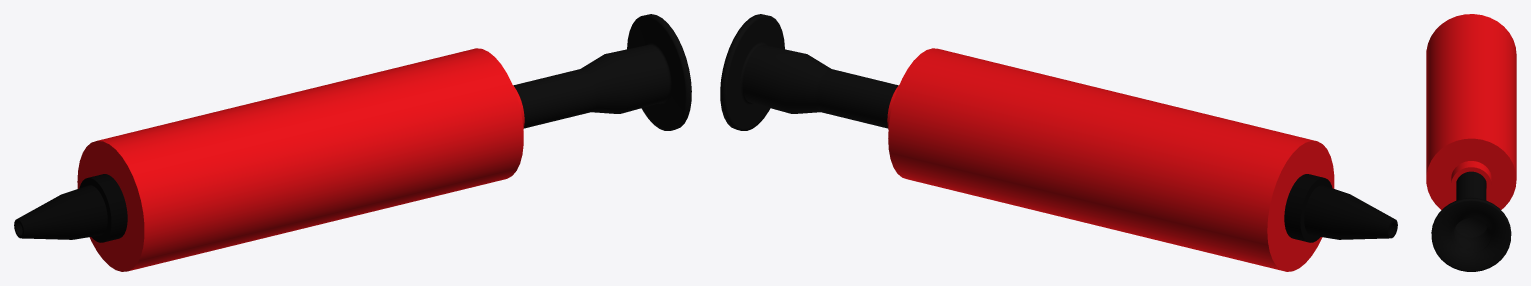
File: hand_pump.glb
The picture shows the model from 3 angles, left to right: view 1: azimuth 30°, elevation 25°; view 2: azimuth 150°, elevation 25°; view 3: azimuth 270°, elevation 25°; orthographic projection. The views are drawn at different scales.
Visible parts, largest first — view 1: Cylinder, Cylinder.001; view 2: Cylinder, Cylinder.001; view 3: Cylinder, Cylinder.001.
Boxes of the visible parts, box(x1,y1,x2,y2) form: Cylinder: box(14, 48, 524, 271); Cylinder.001: box(513, 14, 691, 130); Cylinder: box(887, 48, 1397, 271); Cylinder.001: box(720, 14, 898, 130); Cylinder: box(1426, 14, 1516, 209); Cylinder.001: box(1431, 171, 1511, 271).
Size of the model in its own units: 4.36 by 0.7885 by 0.7876.
